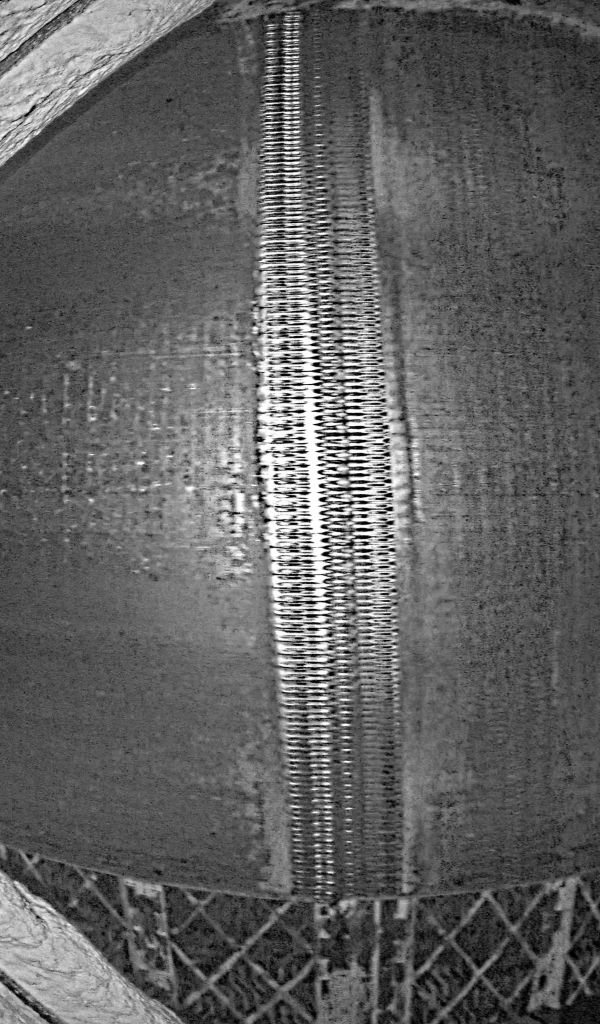splice: (243, 6, 402, 901)
